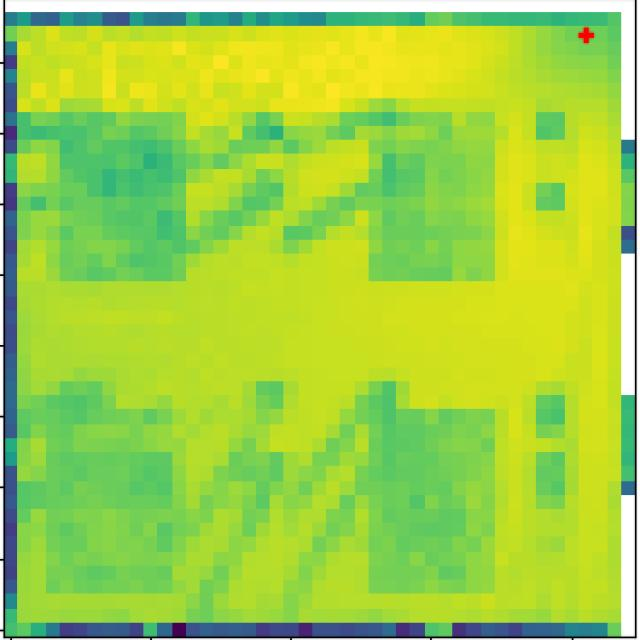Concrete: (368, 408, 497, 594)
Glass: (365, 111, 496, 281)
Metal: (46, 399, 182, 593)
Wood: (55, 111, 187, 281)
